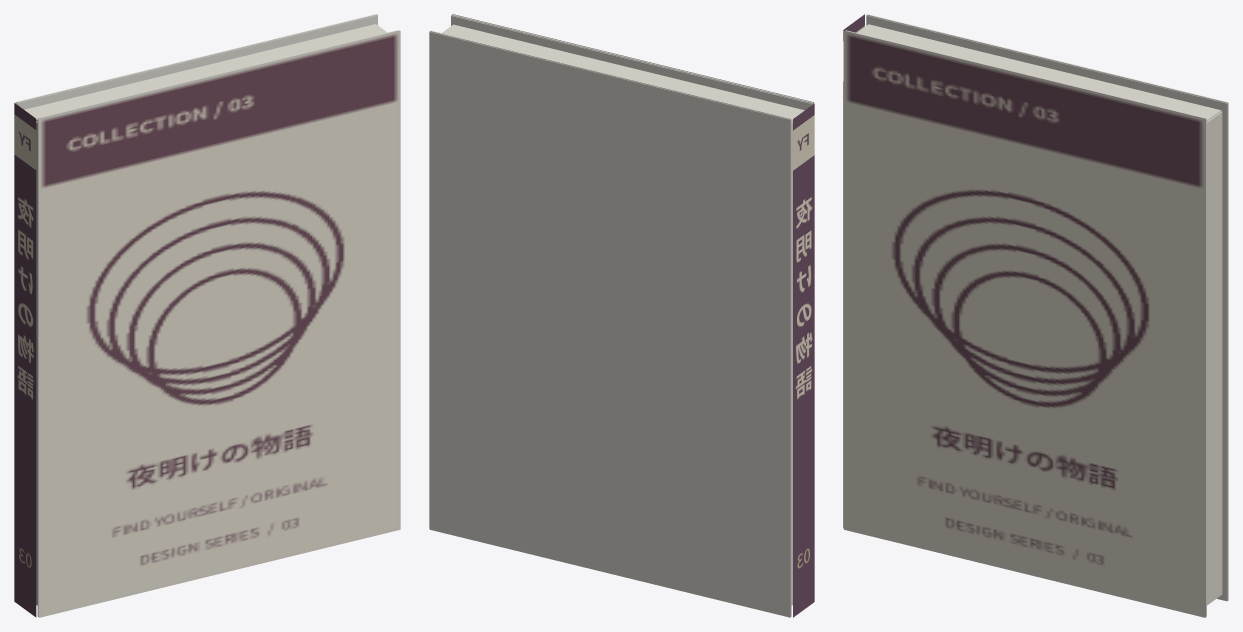
Rendered from sku_v23_book_3.glb.
3 views of the same model, side by side, from view 1: azimuth 30°, elevation 25°; view 2: azimuth 150°, elevation 25°; view 3: azimuth 330°, elevation 25° (orthographic).
Parts seen in each view (by area): view 1: sku_v23_book_3_V23_original_editorial, sku_v23_book_3_V23_printed_genre_spines, sku_v23_book_3_Warm_white_coating, sku_v23_book_3_Paper_page_edges; view 2: sku_v23_book_3_Warm_white_coating, sku_v23_book_3_V23_printed_genre_spines, sku_v23_book_3_Paper_page_edges; view 3: sku_v23_book_3_V23_original_editorial, sku_v23_book_3_Paper_page_edges, sku_v23_book_3_Warm_white_coating, sku_v23_book_3_V23_printed_genre_spines.
Boxes of the visible parts, x1,y1,x2,y2 form: sku_v23_book_3_V23_original_editorial: (39,31,400,617); sku_v23_book_3_V23_printed_genre_spines: (14,103,36,617); sku_v23_book_3_Warm_white_coating: (15,14,399,616); sku_v23_book_3_Paper_page_edges: (24,24,387,605); sku_v23_book_3_Warm_white_coating: (429,14,813,617); sku_v23_book_3_V23_printed_genre_spines: (793,103,814,617); sku_v23_book_3_Paper_page_edges: (442,24,804,605); sku_v23_book_3_V23_original_editorial: (844,31,1205,617); sku_v23_book_3_Paper_page_edges: (857,24,1222,605); sku_v23_book_3_Warm_white_coating: (845,14,1228,616); sku_v23_book_3_V23_printed_genre_spines: (843,14,864,528).
Size of the model in its own units: 0.221 by 0.29 by 0.0247.
4 materials, 2 textured.
